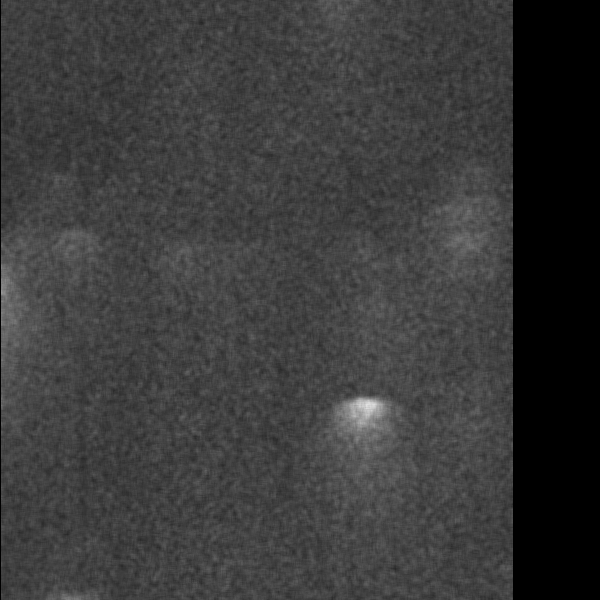spark: (219, 257, 279, 344), (61, 193, 111, 250), (361, 197, 408, 231)
